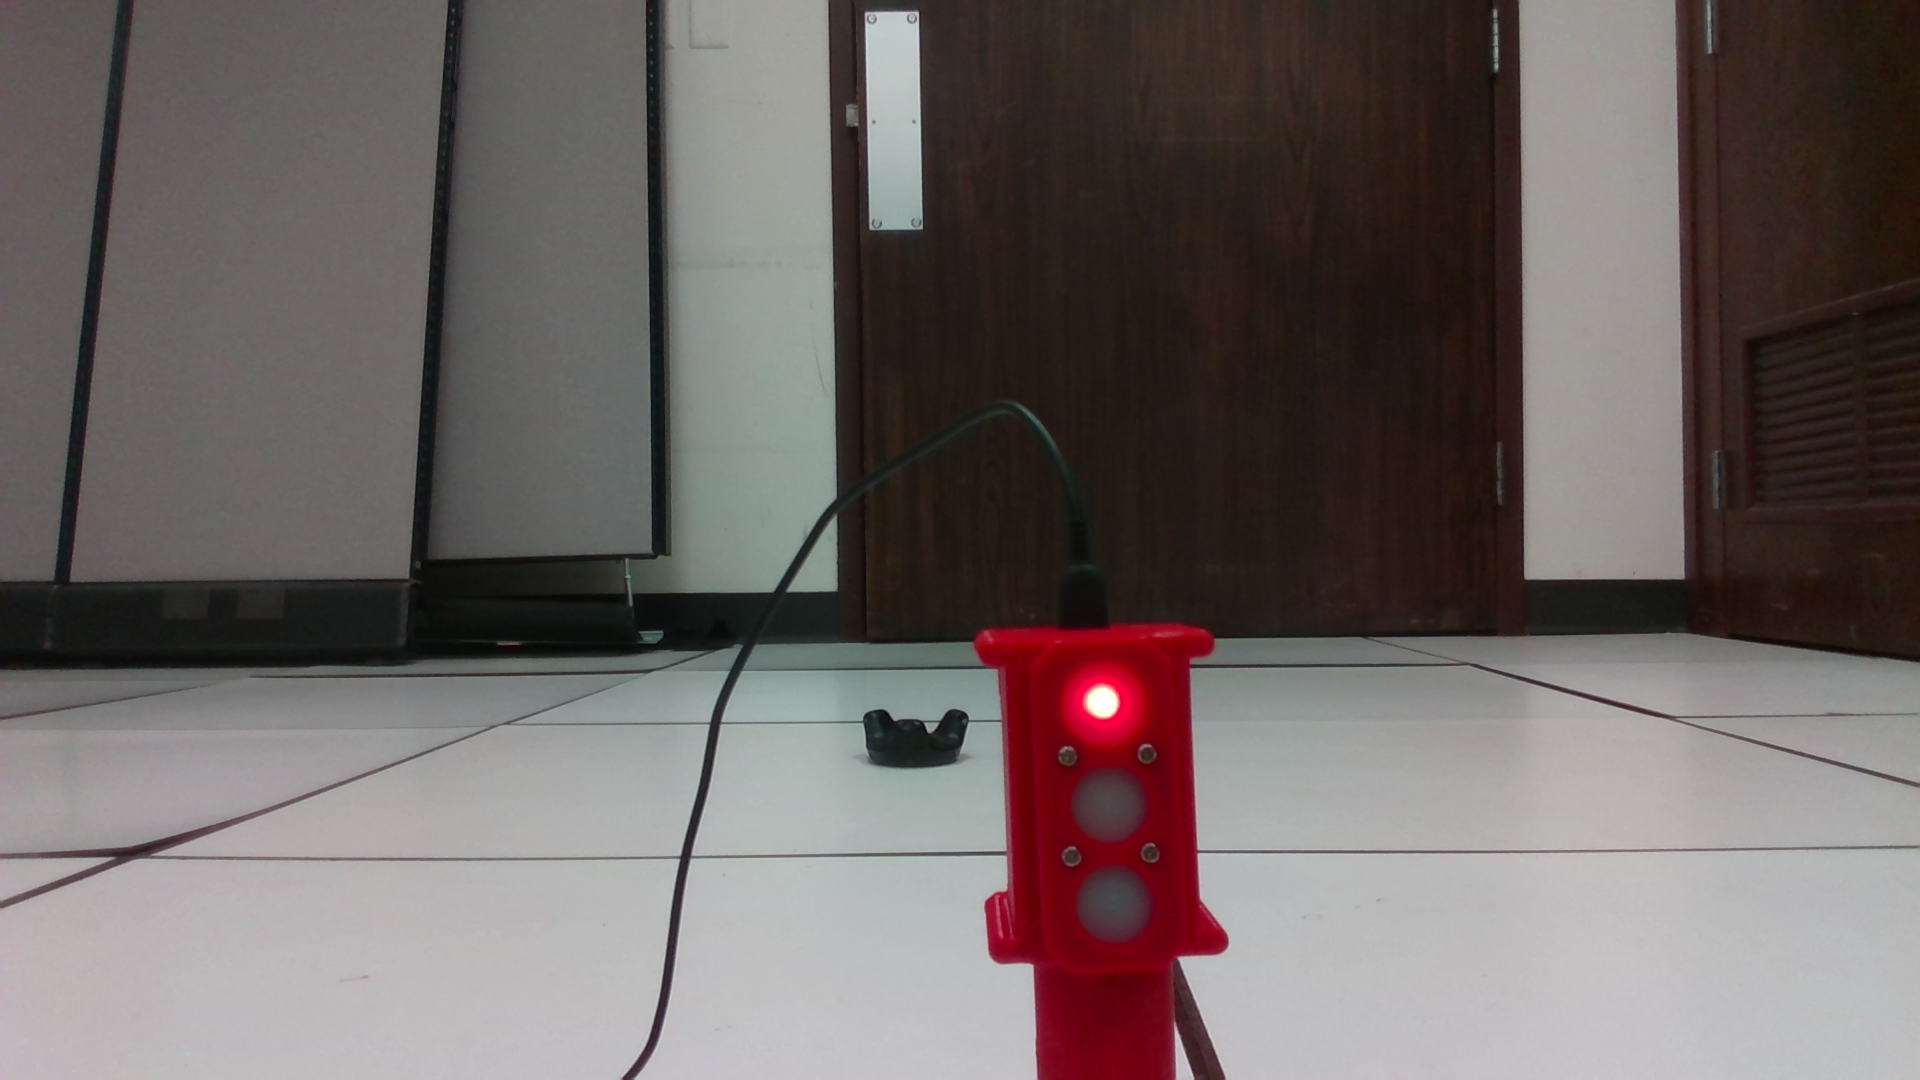stoplight: (963, 628, 1234, 1073)
